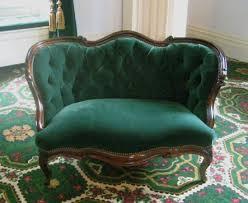sofa: (8, 22, 239, 203)
